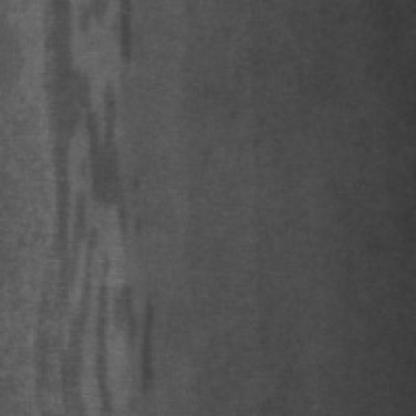inclusion: (44, 0, 160, 408)
